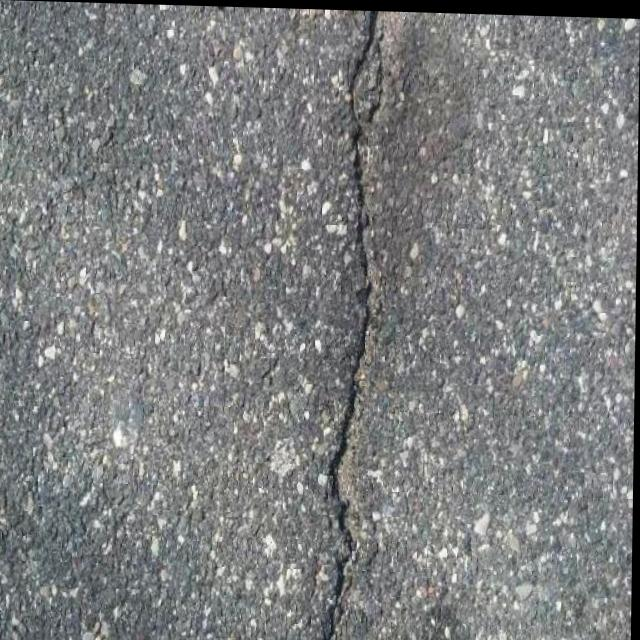Crack: (313, 7, 389, 640)
